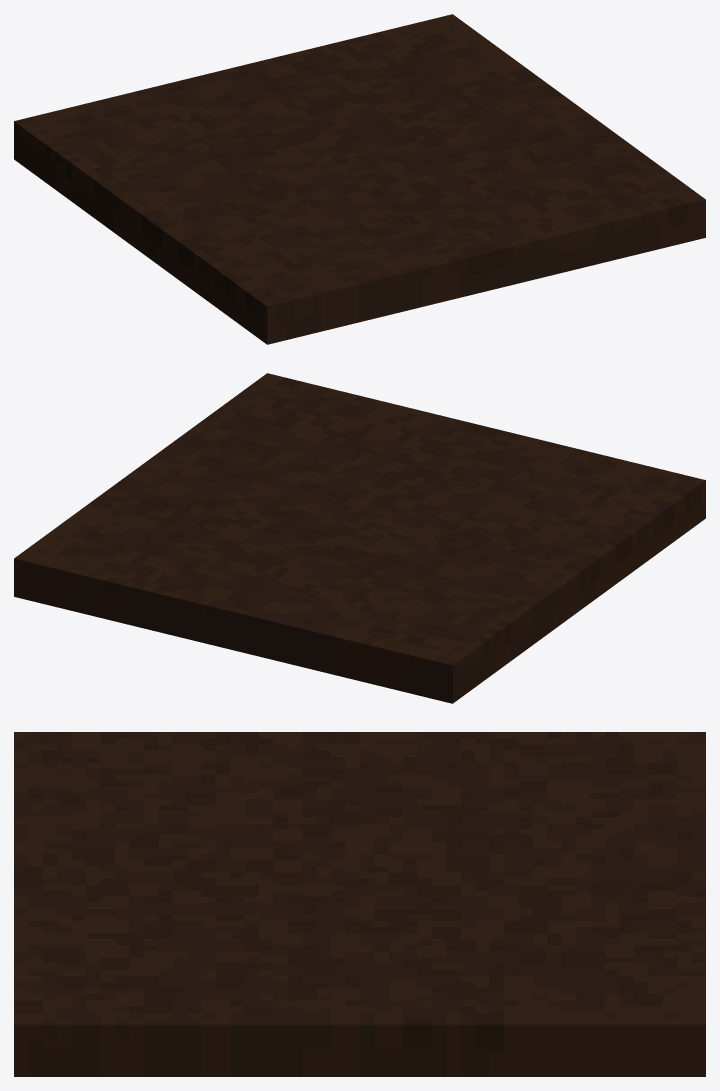
Rendered from TILE_DEFAULT.glb.
3 views of the same model, one above another, from view 1: azimuth 30°, elevation 25°; view 2: azimuth 150°, elevation 25°; view 3: azimuth 270°, elevation 25° (orthographic). The views are drawn at different scales.
Parts seen in each view (by area): view 1: TILE_DEFAULT_Node; view 2: TILE_DEFAULT_Node; view 3: TILE_DEFAULT_Node.
Boxes of the visible parts, x1=… form: TILE_DEFAULT_Node: x1=14, y1=14, x2=705, y2=344; TILE_DEFAULT_Node: x1=14, y1=373, x2=705, y2=703; TILE_DEFAULT_Node: x1=14, y1=732, x2=705, y2=1076.
Size of the model in its own units: 48 by 4 by 48.
Materials: 1 (1 with a texture image).
